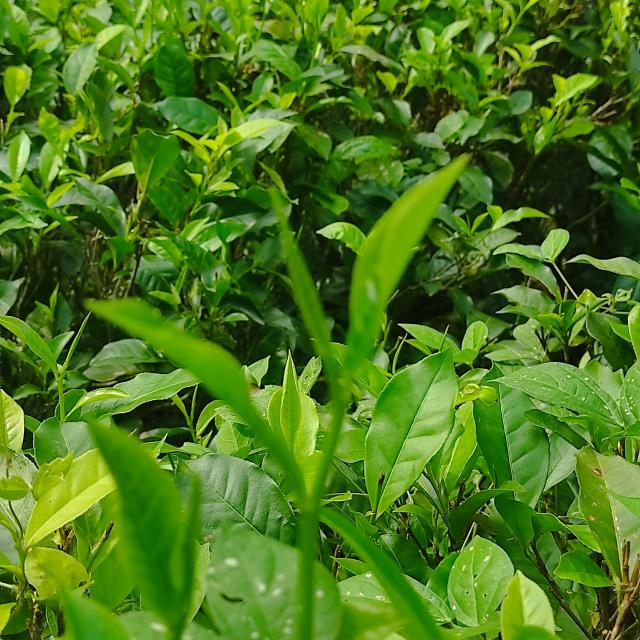unopened_leaf: (264, 171, 354, 419), (155, 452, 224, 633), (54, 303, 97, 390), (386, 328, 411, 387), (433, 470, 459, 524), (430, 322, 460, 357), (187, 383, 201, 426), (460, 210, 476, 238), (554, 296, 568, 322)
